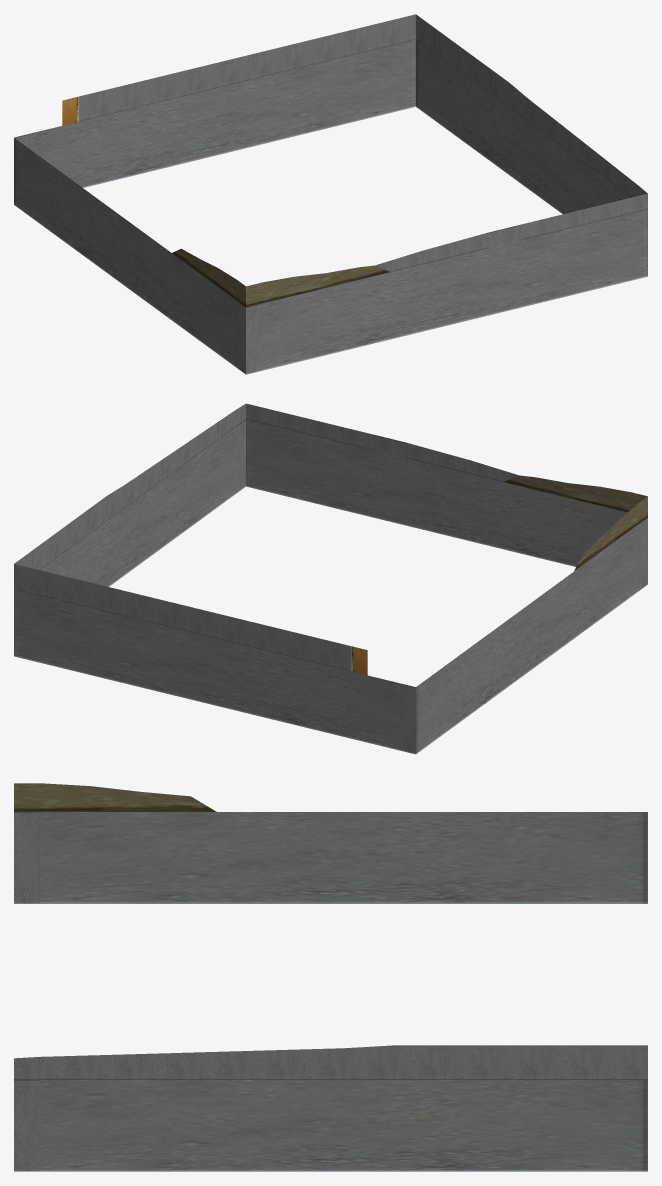
3 renders of one model, top to bottom at view 1: azimuth 30°, elevation 25°; view 2: azimuth 150°, elevation 25°; view 3: azimuth 270°, elevation 25°, orthographic. The views are drawn at different scales.
Visible parts, largest first — view 1: Joint_0_Object_5, Joint_0_Object_4, Joint_0_Object_0, Joint_0_Object_3, Joint_0_Object_2; view 2: Joint_0_Object_5, Joint_0_Object_4, Joint_0_Object_0, Joint_0_Object_3, Joint_0_Object_2; view 3: Joint_0_Object_4, Joint_0_Object_0, Joint_0_Object_2.
Boxes of the visible parts, x1,y1,x2,y2 form: Joint_0_Object_5: (30, 39, 647, 370); Joint_0_Object_4: (14, 40, 631, 367); Joint_0_Object_0: (14, 14, 647, 374); Joint_0_Object_3: (246, 265, 390, 307); Joint_0_Object_2: (172, 248, 245, 306); Joint_0_Object_5: (14, 419, 627, 750); Joint_0_Object_4: (40, 426, 638, 753); Joint_0_Object_0: (14, 403, 647, 754); Joint_0_Object_3: (504, 475, 647, 512); Joint_0_Object_2: (574, 496, 647, 570); Joint_0_Object_4: (39, 812, 647, 1171); Joint_0_Object_0: (14, 812, 647, 1171); Joint_0_Object_2: (14, 783, 216, 811).
Bounding box in the file's own units: 10000 × 2200 × 10000.
